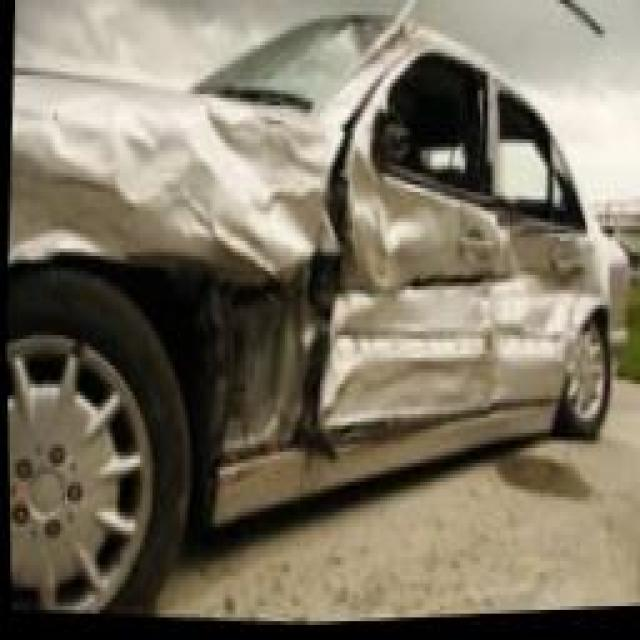Door: (304, 60, 588, 450)
Fender: (6, 74, 330, 498)
